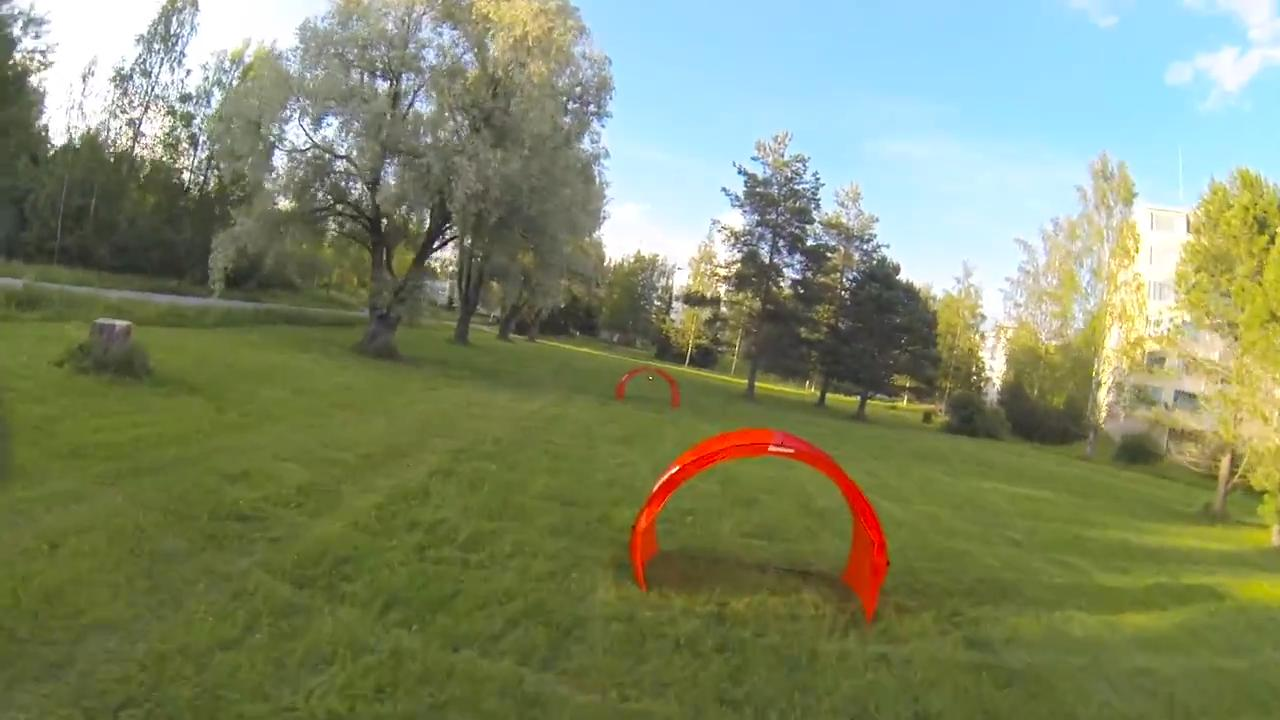gate: (623, 423, 894, 629)
